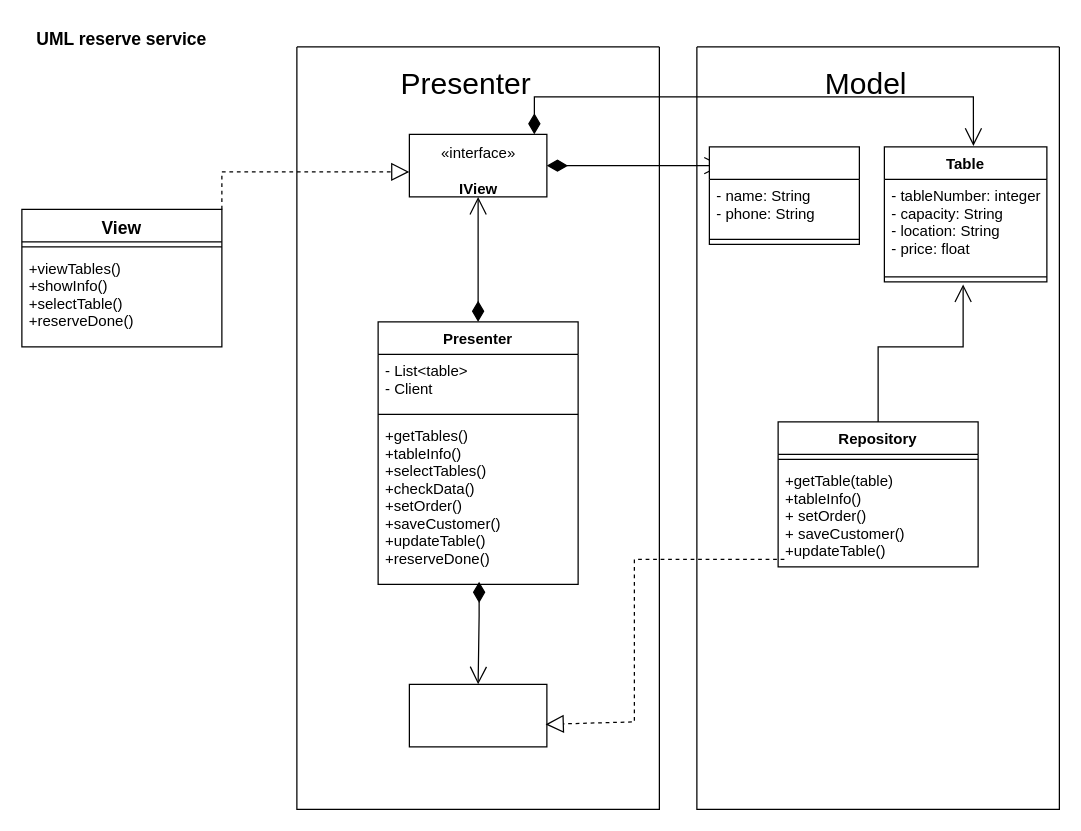
This 1081x831 diagram has some shape labels left out. The shapes that lost their labels are listed below. From the top down, each one's box as (x1, y1, x2, y2) in pixels, then its label:
(708, 146, 859, 244): Client
(408, 683, 547, 747): «interface» IModel
